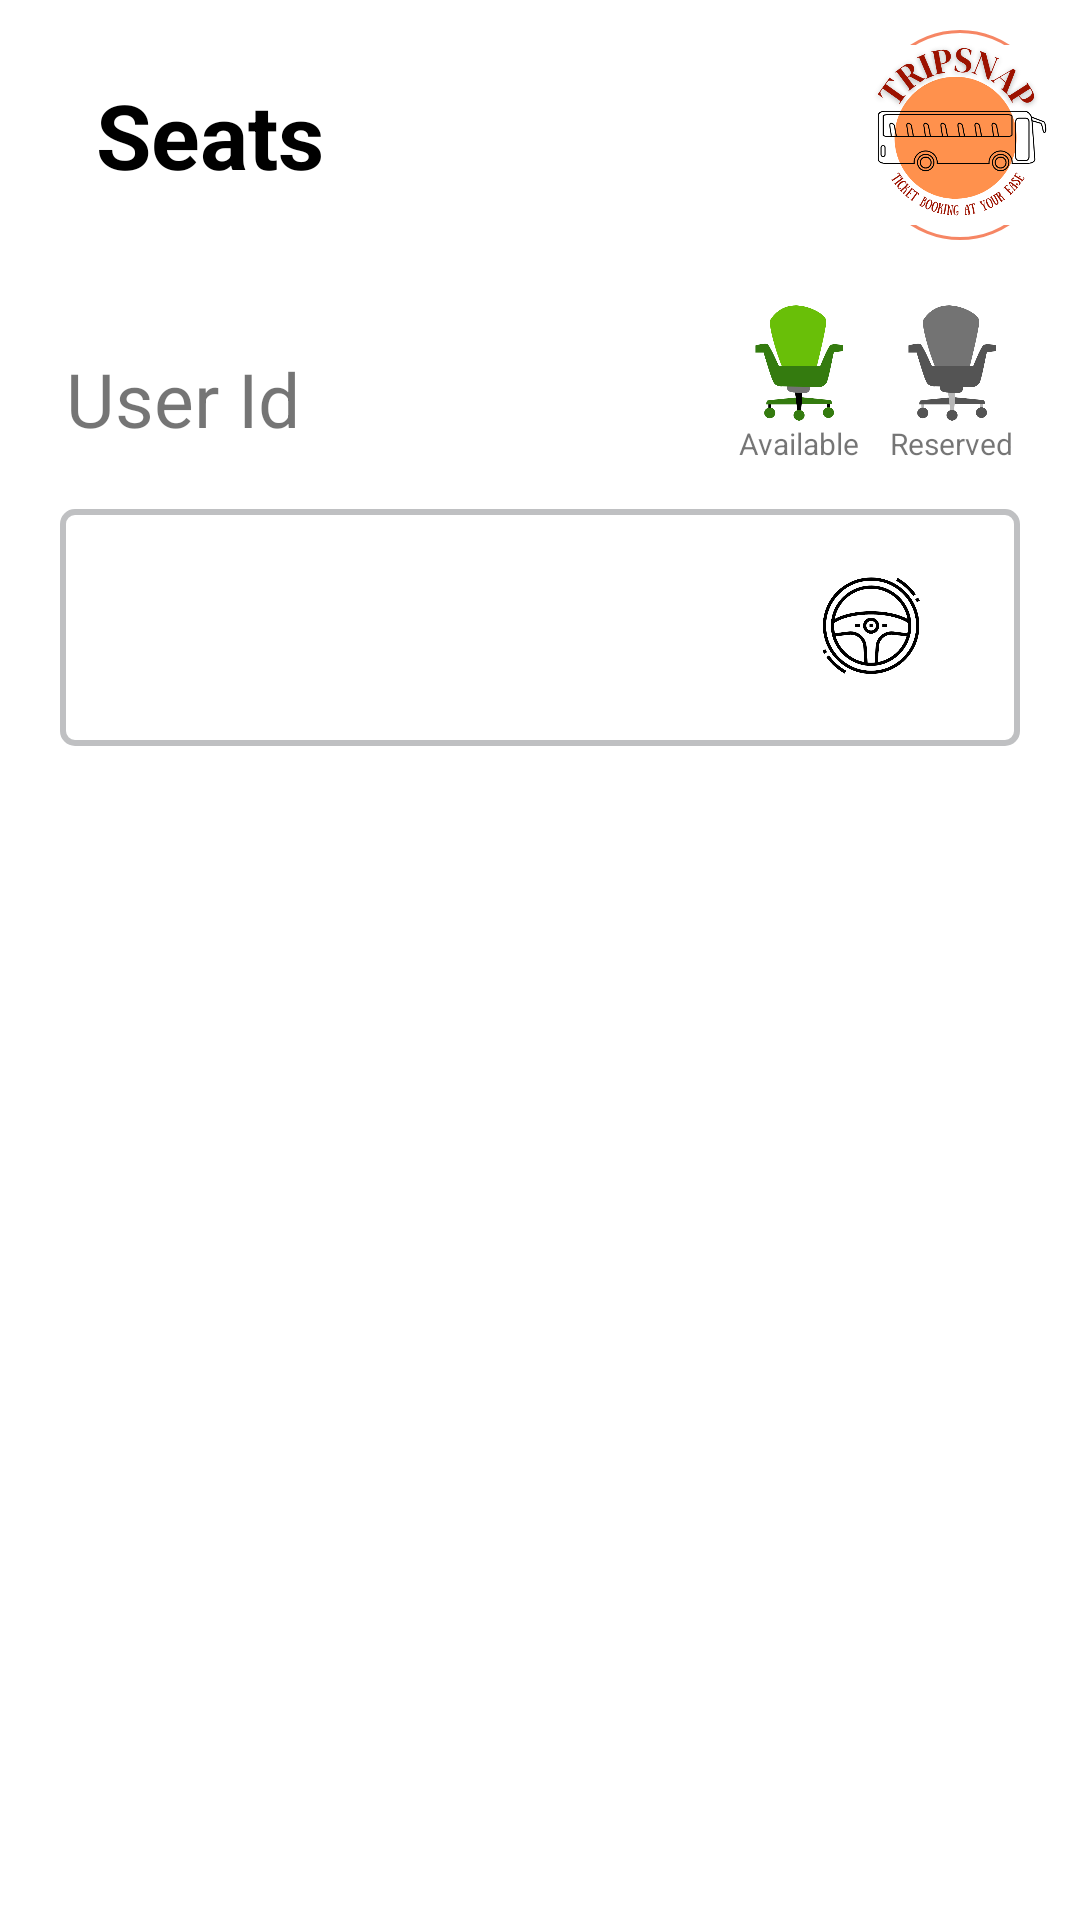

Where icons sit on this 1080x1920 app screen, as (x1, y1, x2, y2):
seats: (755, 305, 843, 421)
steering: (823, 577, 920, 674)
